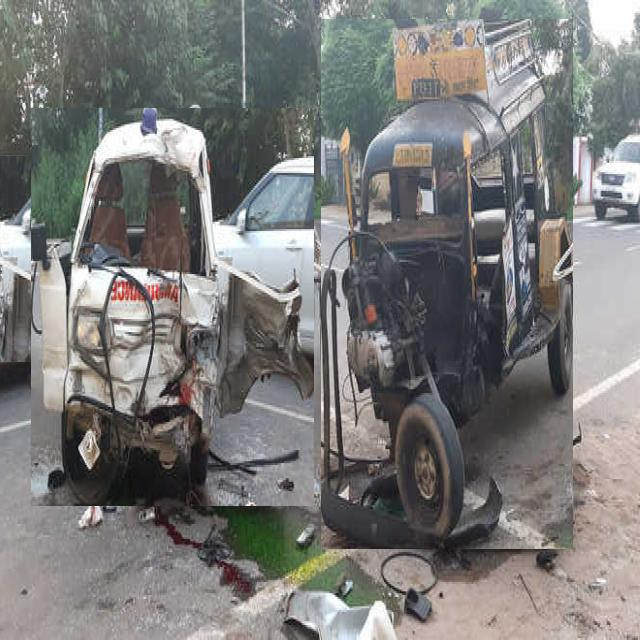accident: (321, 19, 572, 549), (31, 108, 314, 506)
car: (0, 157, 130, 362), (589, 120, 640, 219)
